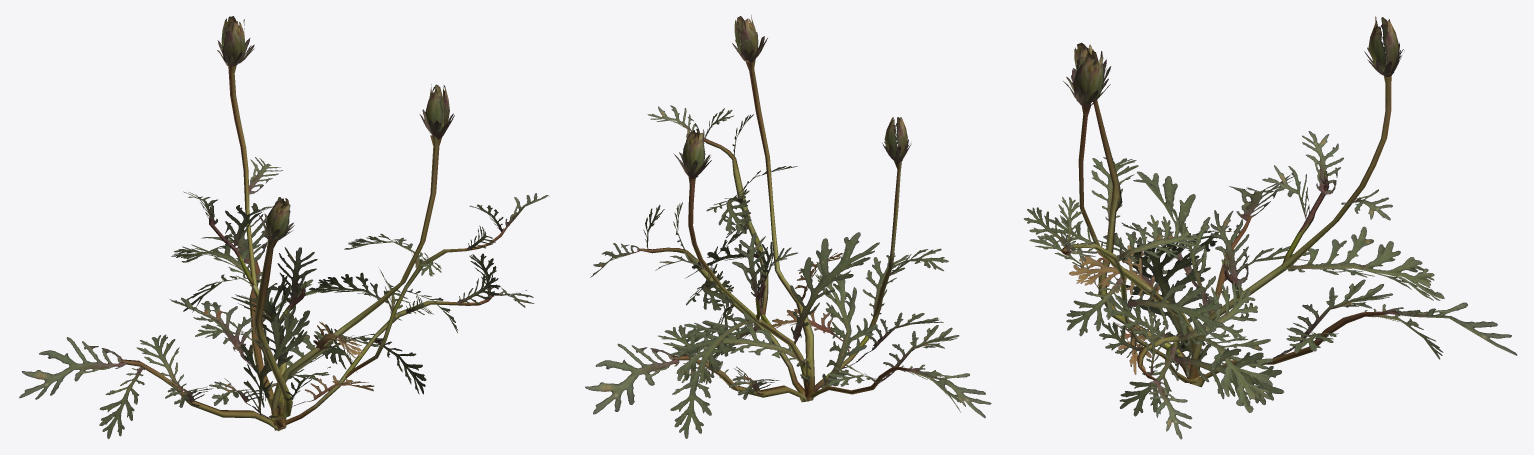
The model's file is flower_ursinia_02.glb.
The picture shows the model from 3 angles, left to right: view 1: azimuth 30°, elevation 25°; view 2: azimuth 150°, elevation 25°; view 3: azimuth 270°, elevation 25°; orthographic projection. The views are drawn at different scales.
Visible parts, largest first — view 1: flower_ursinia; view 2: flower_ursinia; view 3: flower_ursinia.
Part boxes in pixels (box(x1,y1,x2,y2)): flower_ursinia: box(19, 16, 549, 438); flower_ursinia: box(585, 15, 991, 438); flower_ursinia: box(1024, 16, 1517, 439).
Bounding box in the file's own units: 0.1862 × 0.1331 × 0.1507.
Materials: 1 (1 with a texture image).
